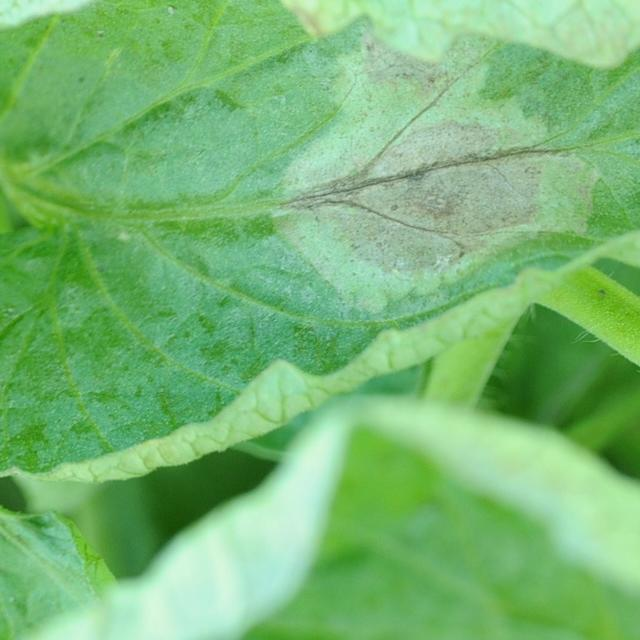Tomato leaf late blight: (0, 0, 640, 466)
